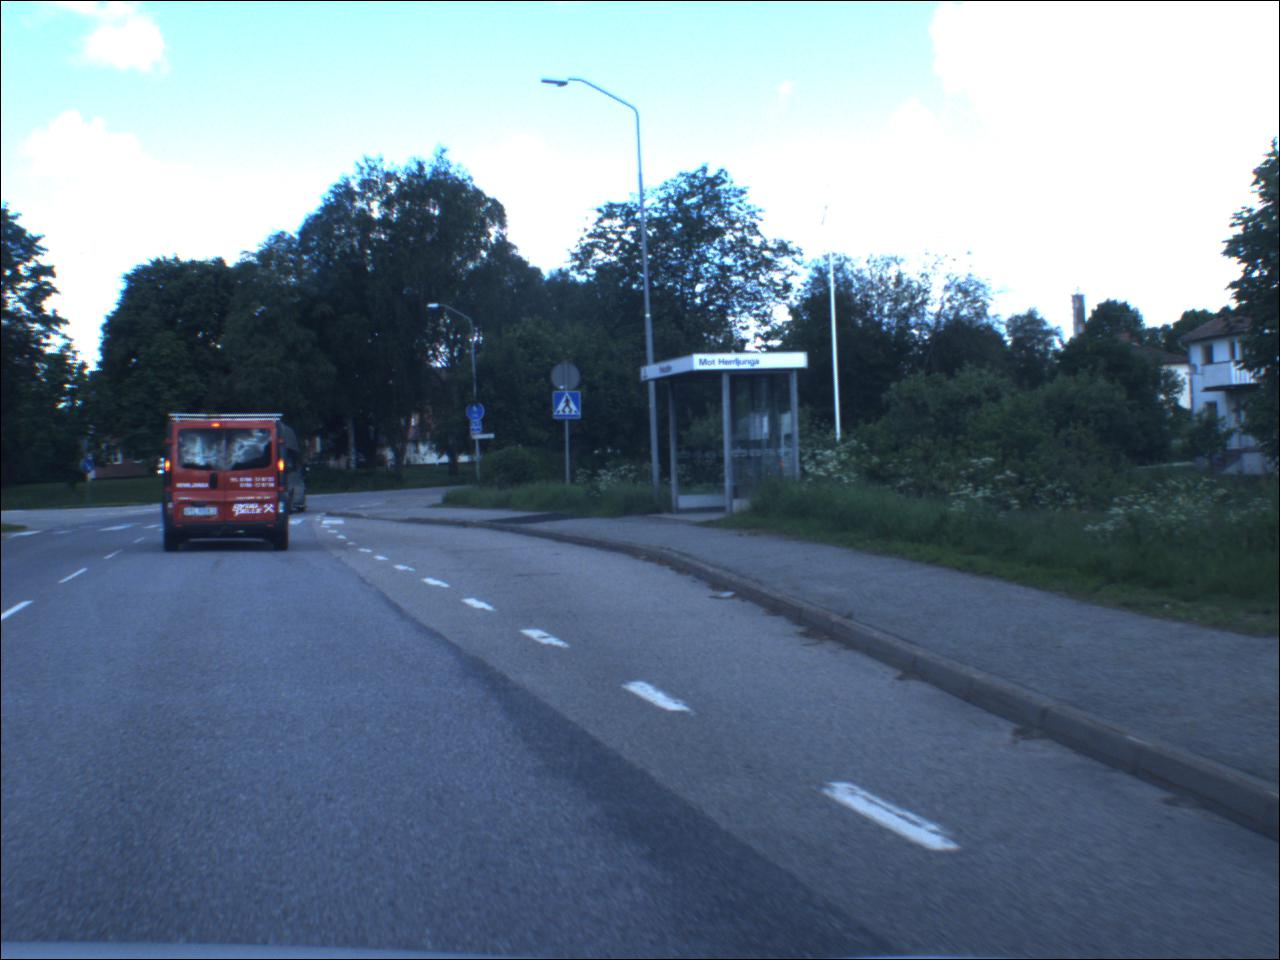PASS_RIGHT_SIDE: (81, 460, 97, 475)
PEDESTRIAN_CROSSING: (554, 390, 586, 419)
